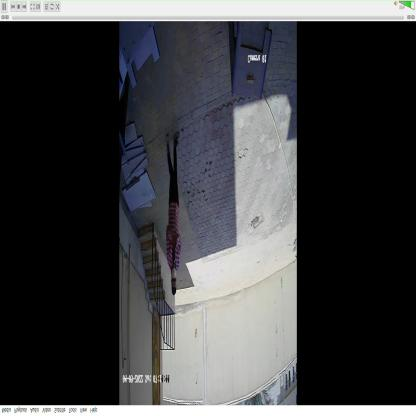handgun: (171, 237, 178, 266)
